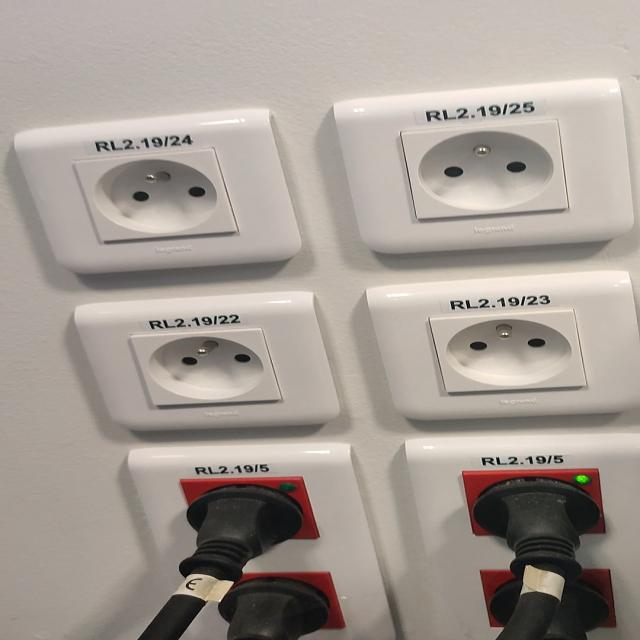house plug: (397, 119, 569, 220), (74, 148, 238, 243), (428, 309, 588, 393), (131, 328, 283, 407)
